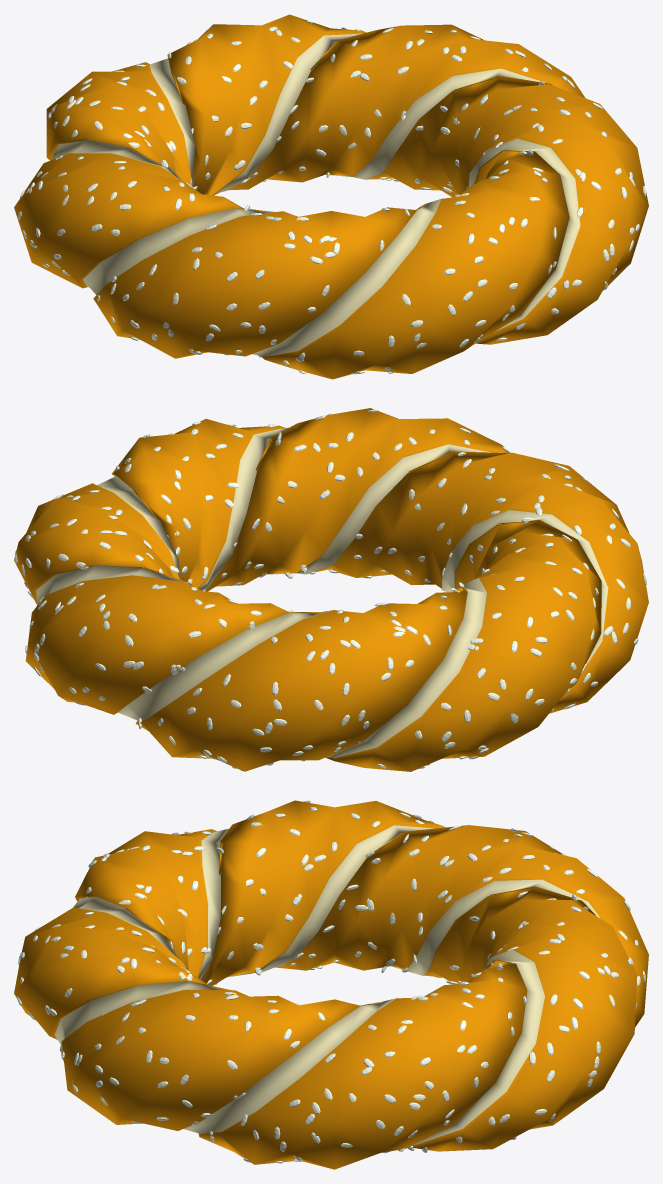
The model's file is eiacreations-simit-5479.glb.
The picture shows the model from 3 angles, top to bottom: view 1: azimuth 30°, elevation 25°; view 2: azimuth 150°, elevation 25°; view 3: azimuth 270°, elevation 25°; orthographic projection.
Visible parts, largest first — view 1: Bagel; view 2: Bagel; view 3: Bagel.
Part boxes in pixels (x1,y1,x2,y2): Bagel: (14, 14, 648, 379); Bagel: (14, 408, 648, 771); Bagel: (14, 800, 648, 1169).
Size of the model in its own units: 0.15 by 0.0405 by 0.1487.
